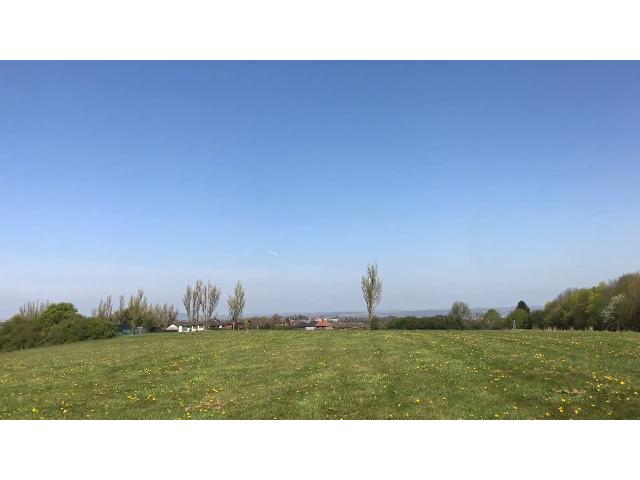Anti-Drone: (262, 247, 284, 259)
